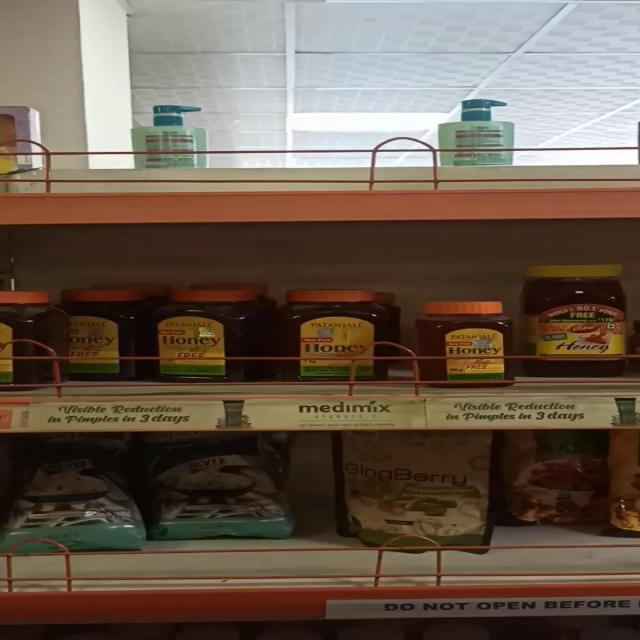Dabur Honey: (522, 263, 638, 378)
Patanjali Honey: (278, 286, 388, 382), (152, 280, 256, 379), (415, 300, 516, 388)
